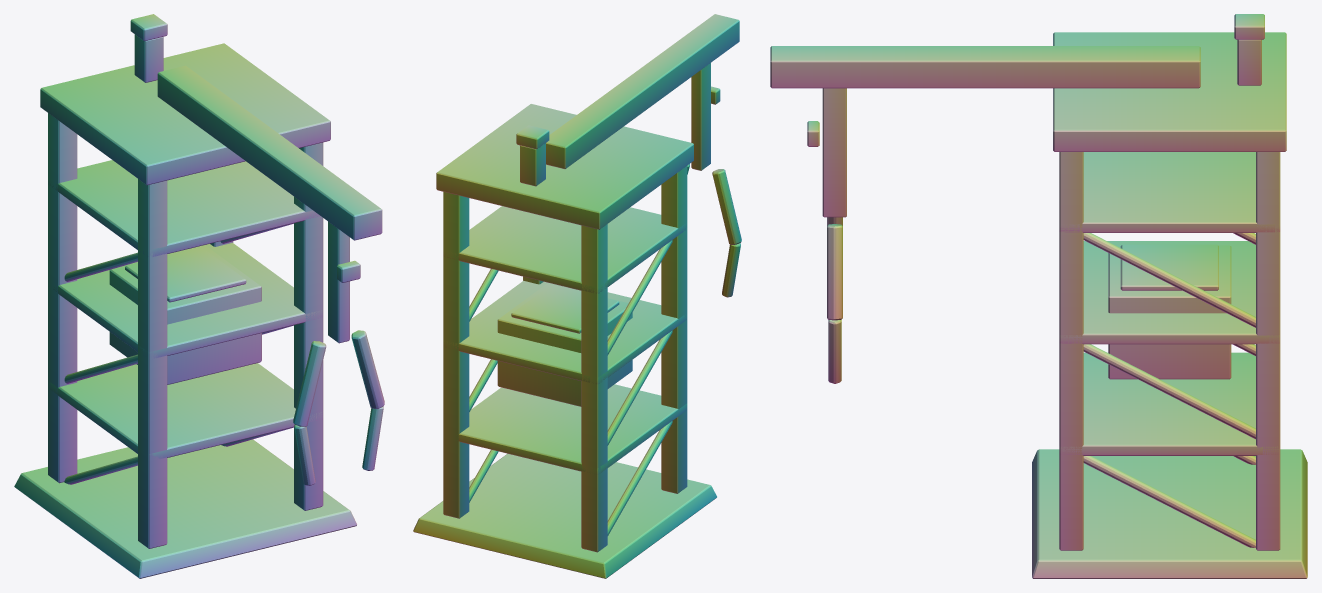
Rendered from addon_walkers_rig.glb.
The picture shows the model from 3 angles, left to right: view 1: azimuth 30°, elevation 25°; view 2: azimuth 150°, elevation 25°; view 3: azimuth 270°, elevation 25°; orthographic projection. The views are drawn at different scales.
Visible parts, largest first — view 1: body; view 2: body; view 3: body.
Part boxes in pixels (x1,y1,x2,y2): body: (14, 14, 384, 578); body: (413, 14, 741, 578); body: (770, 14, 1307, 578).
Size of the model in its own units: 8.97 by 18 by 17.48.
